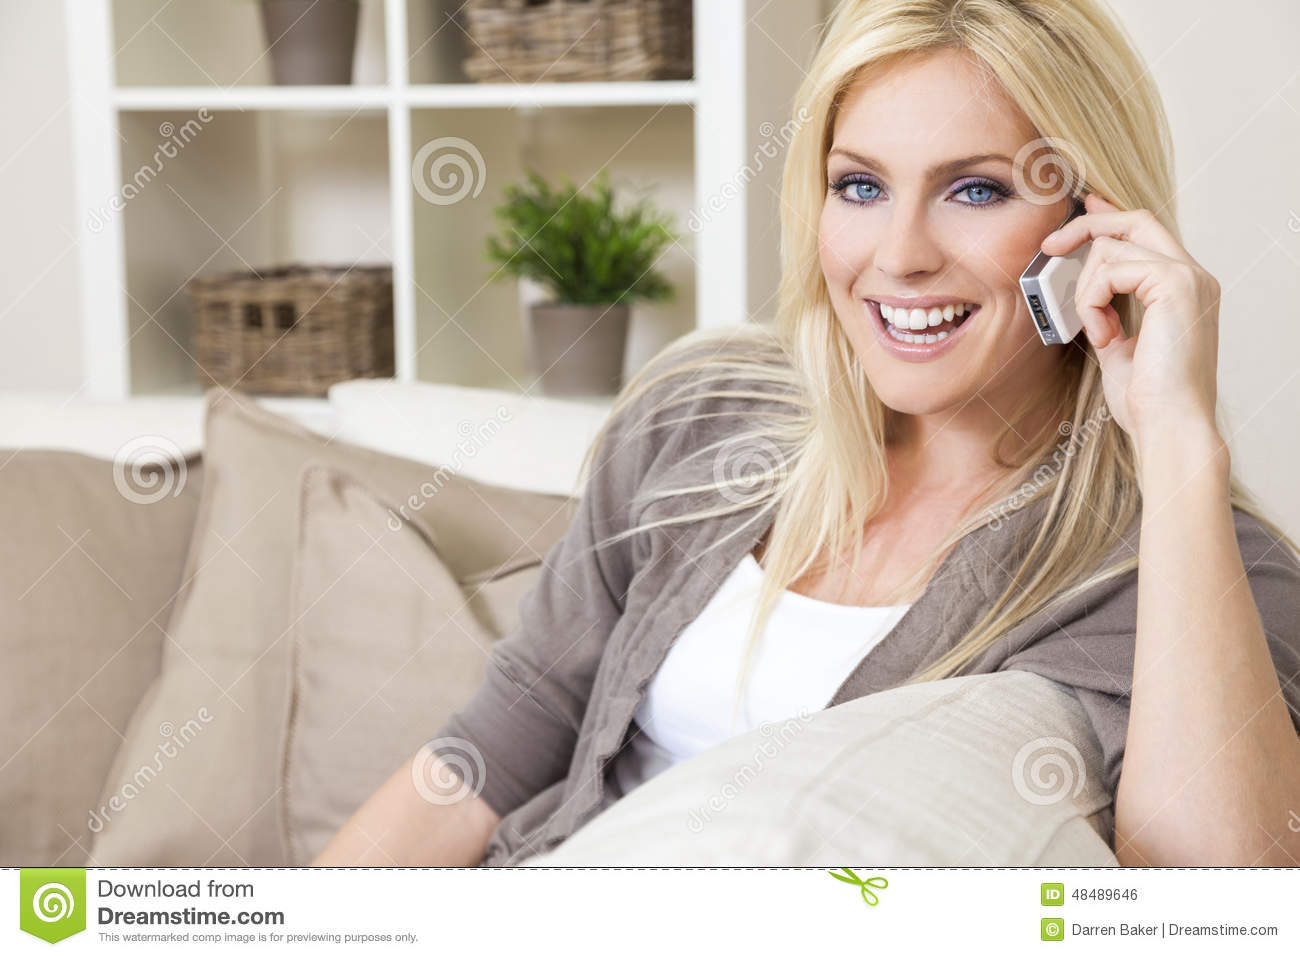phone: (1017, 182, 1114, 351)
talk: (814, 139, 1227, 484)
